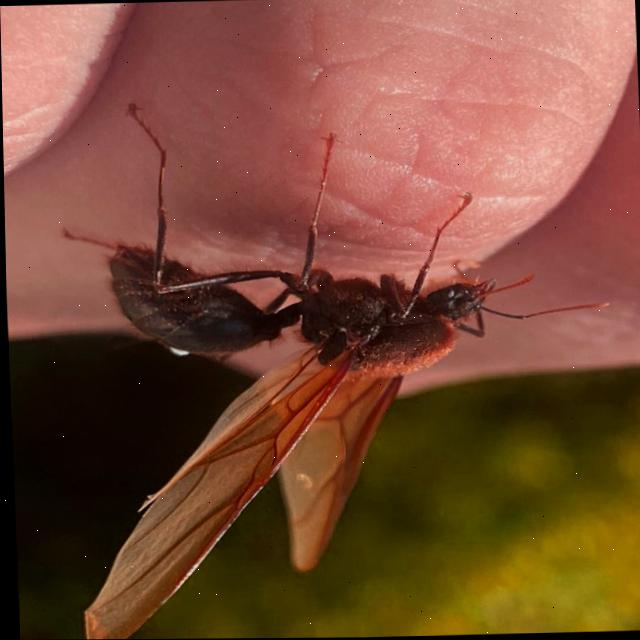Alive-Male-Alate: (56, 91, 620, 640)
